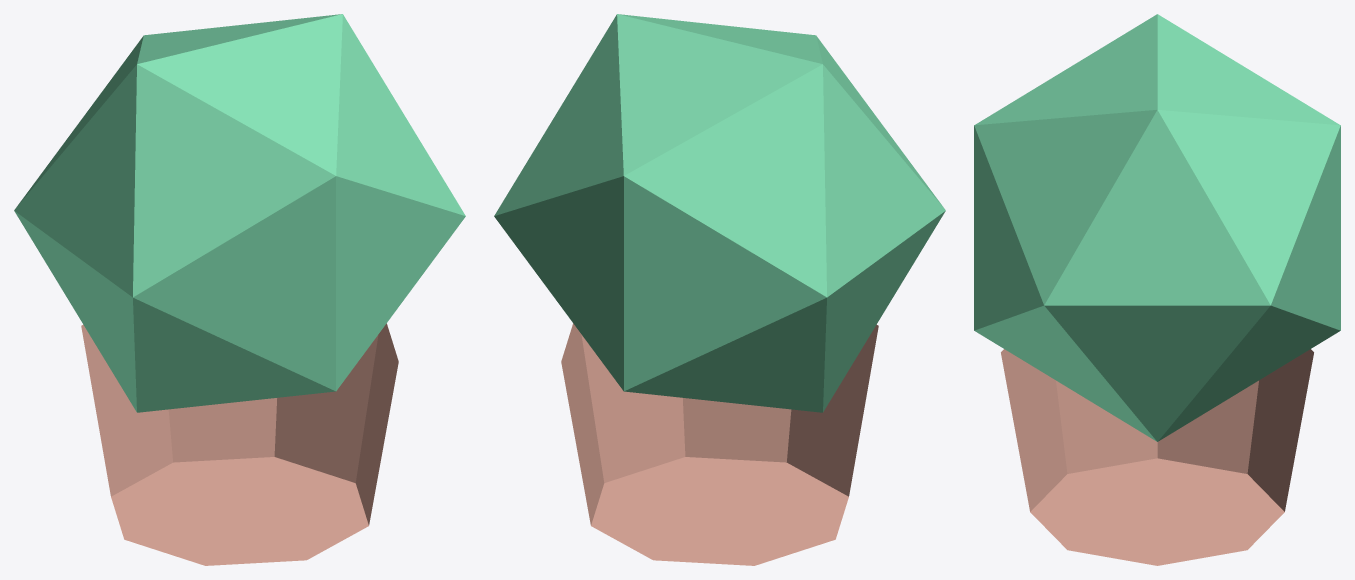
The model's file is plant-placeholder.glb.
3 renders of one model, left to right at view 1: azimuth 30°, elevation 25°; view 2: azimuth 150°, elevation 25°; view 3: azimuth 270°, elevation 25°, orthographic. The views are drawn at different scales.
Visible parts, largest first — view 1: Folhagem, Vaso; view 2: Folhagem, Vaso; view 3: Folhagem, Vaso.
Part boxes in pixels (bbox=[...]): Folhagem: bbox=[14, 14, 465, 412]; Vaso: bbox=[81, 323, 398, 565]; Folhagem: bbox=[494, 14, 945, 412]; Vaso: bbox=[561, 323, 878, 565]; Folhagem: bbox=[974, 14, 1340, 441]; Vaso: bbox=[1001, 349, 1313, 565].
Size of the model in its own units: 0.3743 by 0.5071 by 0.3743.
